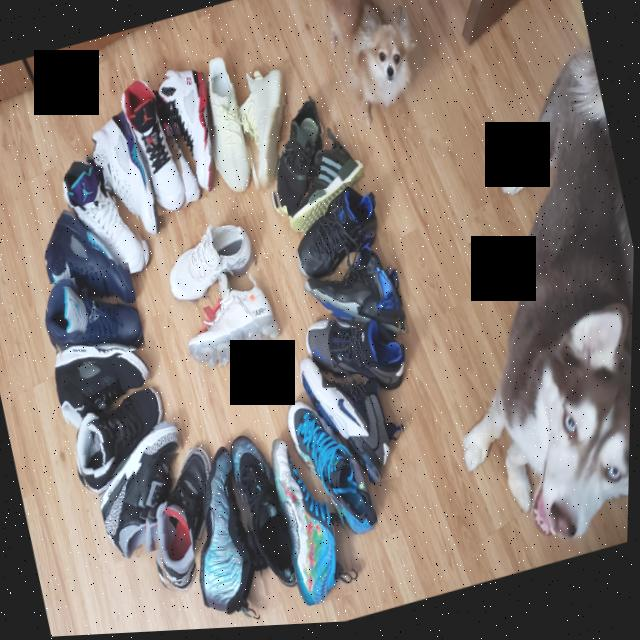shoe: (294, 335, 419, 502), (172, 439, 273, 633), (265, 423, 368, 613), (132, 444, 241, 605), (88, 422, 207, 566), (281, 385, 384, 551), (298, 234, 413, 362), (56, 145, 156, 289), (34, 195, 142, 328), (225, 429, 308, 602), (65, 386, 182, 503), (302, 299, 417, 414), (284, 177, 394, 296), (113, 69, 198, 222), (83, 104, 168, 251), (148, 59, 231, 208), (39, 262, 149, 374), (251, 96, 344, 227), (174, 268, 287, 375), (49, 324, 161, 429), (274, 124, 375, 238), (226, 62, 308, 201), (189, 54, 259, 204), (159, 218, 264, 310)
